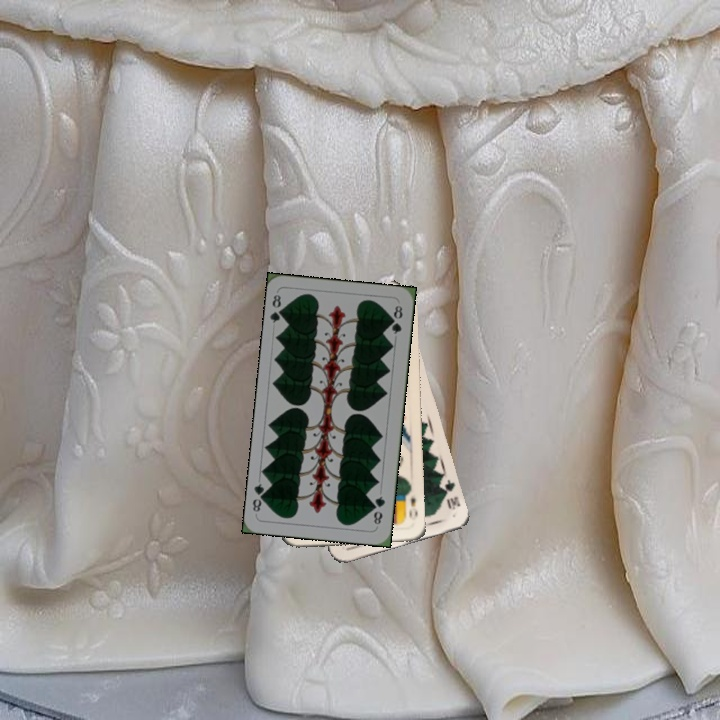EO: (405, 492, 420, 521)
G10: (437, 475, 463, 512)
G8: (267, 291, 288, 325), (369, 492, 388, 527)
